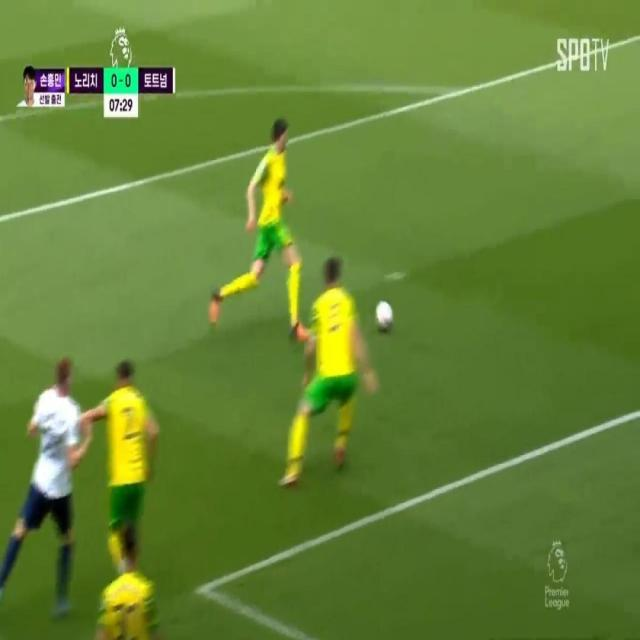ball: (375, 295, 399, 338)
player: (0, 348, 93, 613), (283, 260, 376, 497), (206, 105, 299, 324), (98, 350, 168, 555), (88, 522, 172, 640)
